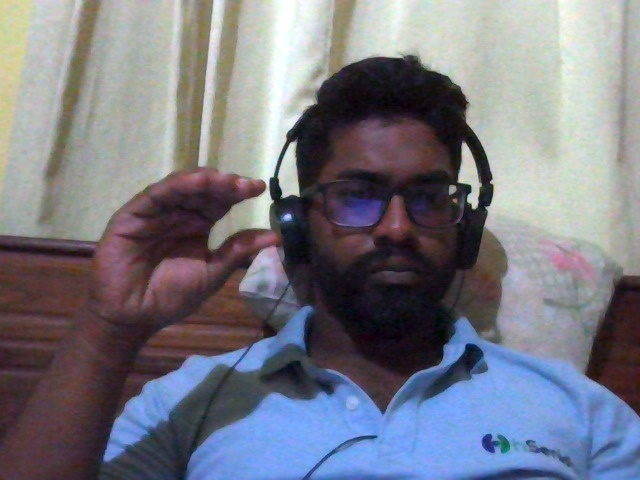No: (57, 146, 315, 352)
